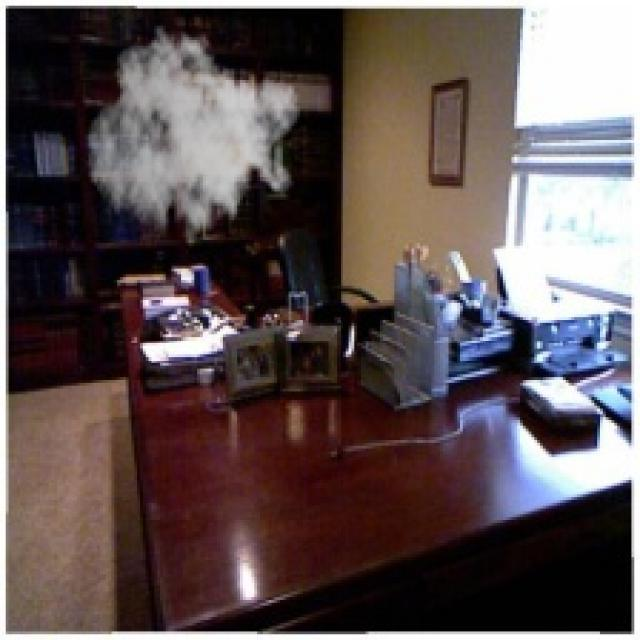Smoke: (86, 23, 303, 260)
